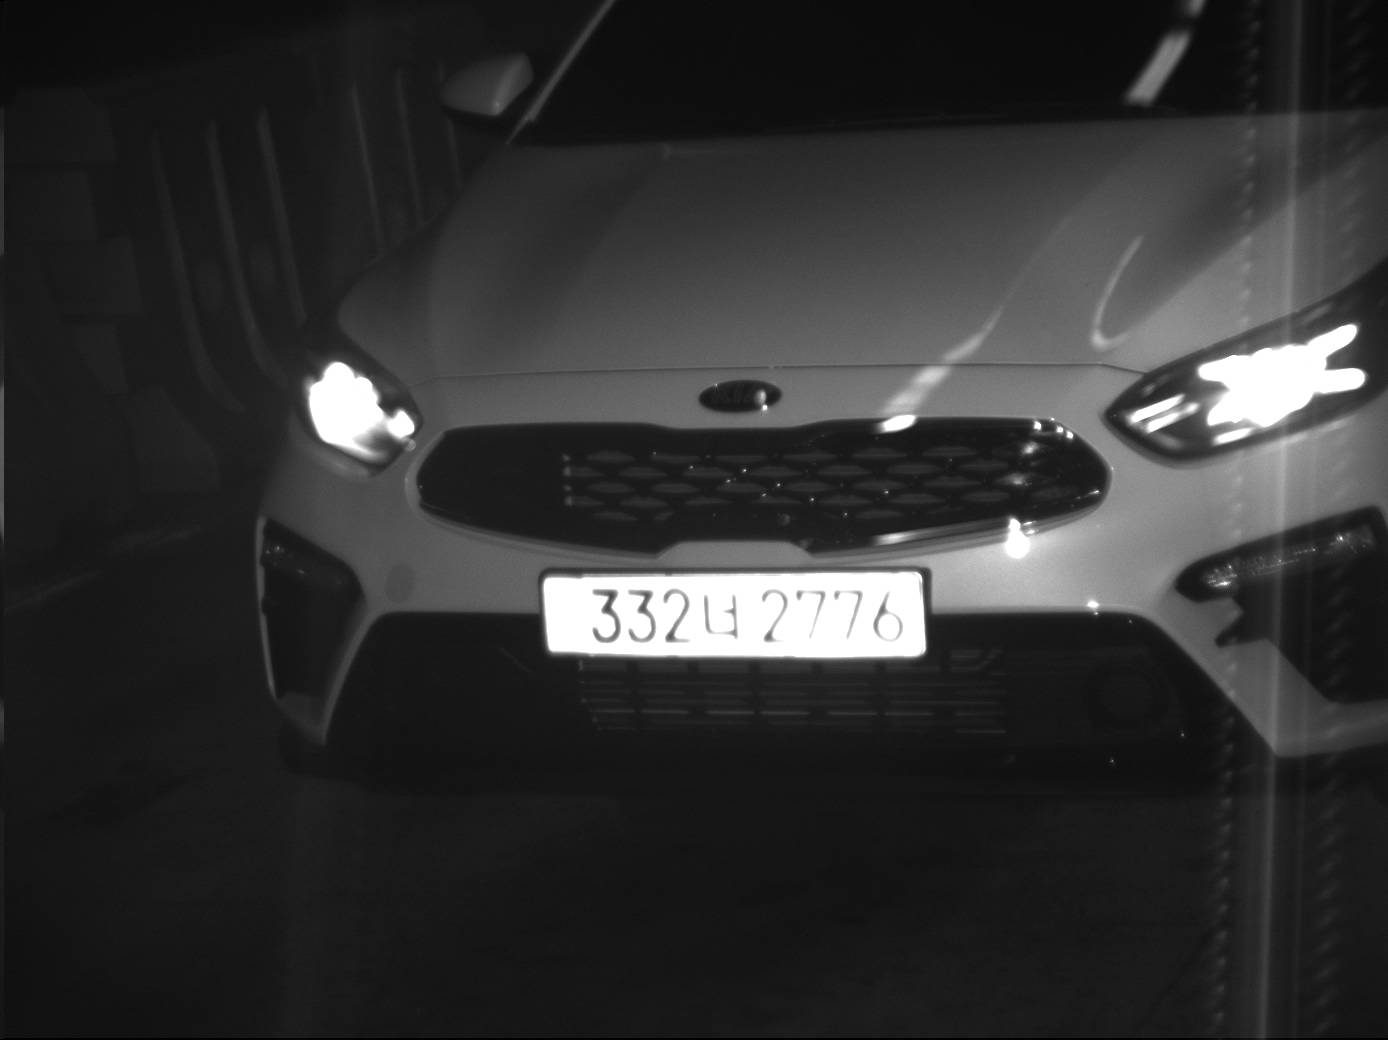car: (240, 1, 1387, 802)
plate: (536, 568, 930, 662)
